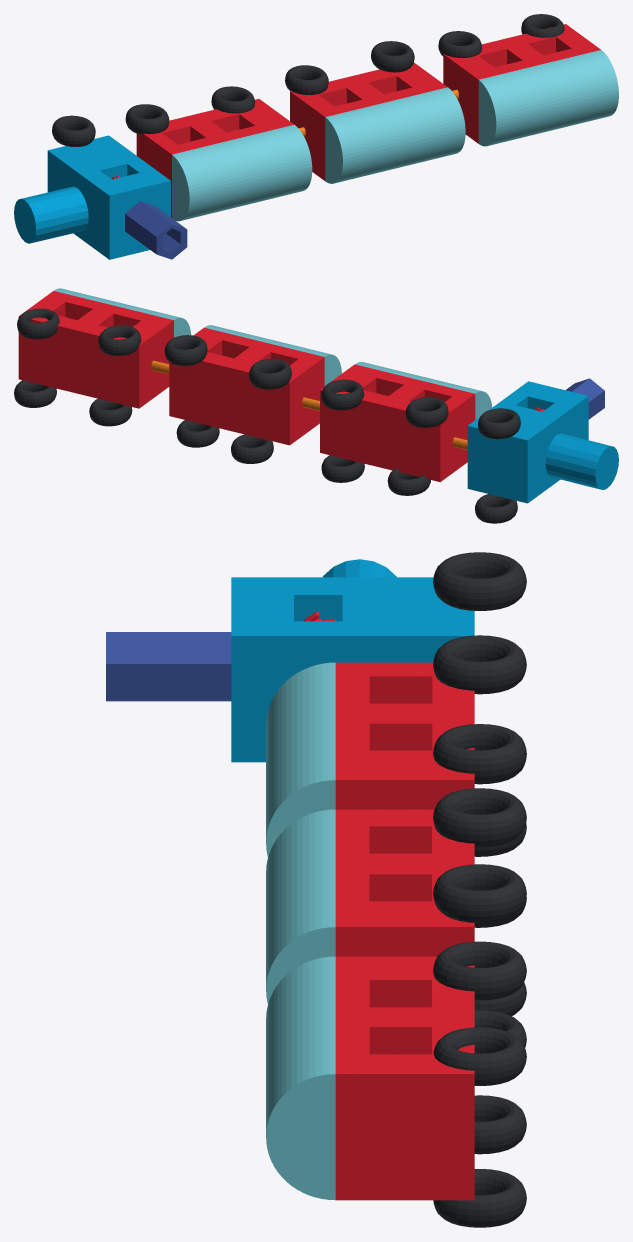
The model's file is tinker.obj.
The picture shows the model from 3 angles, top to bottom: view 1: azimuth 30°, elevation 25°; view 2: azimuth 150°, elevation 25°; view 3: azimuth 270°, elevation 25°; orthographic projection. The views are drawn at different scales.
Visible parts, largest first — view 1: group_0_7720667, group_0_15277357, group_0_40919, group_0_2829873, group_0_3888547; view 2: group_0_15277357, group_0_2829873, group_0_40919, group_0_7720667, group_0_3888547, group_0_16089887; view 3: group_0_15277357, group_0_2829873, group_0_7720667, group_0_40919, group_0_3888547.
Part boxes in pixels (box(x1,y1,x2,y2)): group_0_7720667: box(172, 50, 618, 221); group_0_15277357: box(112, 24, 600, 217); group_0_40919: box(14, 135, 170, 259); group_0_2829873: box(52, 14, 564, 146); group_0_3888547: box(125, 201, 187, 259); group_0_15277357: box(18, 291, 544, 482); group_0_2829873: box(14, 308, 520, 523); group_0_40919: box(467, 381, 618, 503); group_0_7720667: box(54, 288, 492, 419); group_0_3888547: box(565, 378, 604, 419); group_0_16089887: box(151, 360, 467, 450); group_0_15277357: box(304, 612, 474, 1200); group_0_2829873: box(433, 552, 526, 1227); group_0_7720667: box(266, 662, 335, 1200); group_0_40919: box(231, 559, 474, 762); group_0_3888547: box(106, 632, 231, 701).
Bounding box in the file's own units: 186 × 32 × 60.5.
